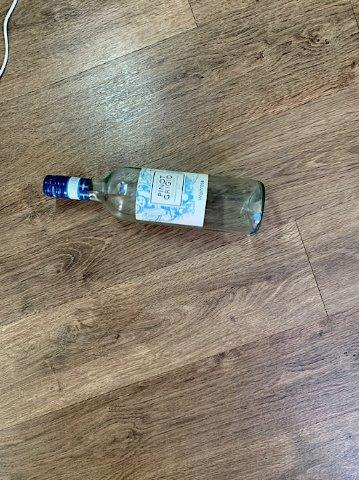botolkaca: (44, 168, 266, 233)
